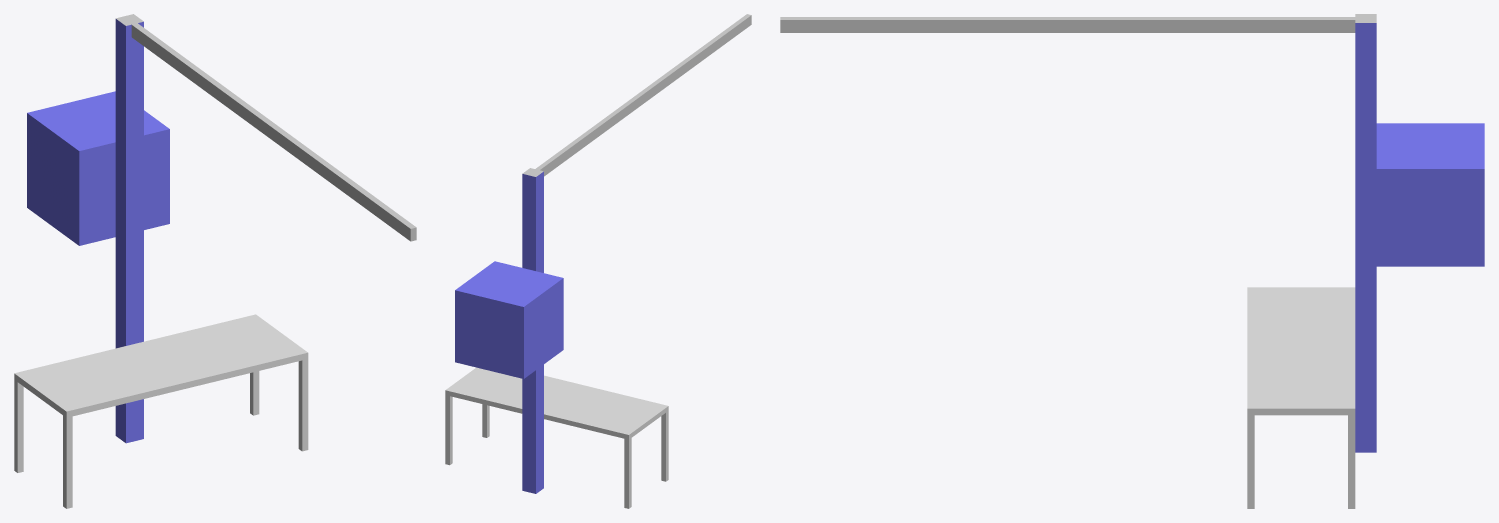
File: meca.etabli.2.glb
3 renders of one model, left to right at view 1: azimuth 30°, elevation 25°; view 2: azimuth 150°, elevation 25°; view 3: azimuth 270°, elevation 25°, orthographic. The views are drawn at different scales.
Visible parts, largest first — view 1: imagetostl_mesh5, imagetostl_mesh21, imagetostl_mesh30, imagetostl_mesh25, imagetostl_mesh20, imagetostl_mesh31, imagetostl_mesh27, imagetostl_mesh3, imagetostl_mesh33, imagetostl_mesh24, imagetostl_mesh7, imagetostl_mesh16; view 2: imagetostl_mesh5, imagetostl_mesh28, imagetostl_mesh30, imagetostl_mesh31, imagetostl_mesh20, imagetostl_mesh25, imagetostl_mesh22, imagetostl_mesh1, imagetostl_mesh29, imagetostl_mesh24, imagetostl_mesh7; view 3: imagetostl_mesh5, imagetostl_mesh34, imagetostl_mesh23, imagetostl_mesh18, imagetostl_mesh31, imagetostl_mesh4, imagetostl_mesh24.
Boxes of the visible parts, box(x1,y1,x2,y2) form: imagetostl_mesh5: box(14, 314, 307, 411); imagetostl_mesh21: box(126, 21, 143, 443); imagetostl_mesh30: box(27, 113, 79, 245); imagetostl_mesh25: box(115, 19, 125, 442); imagetostl_mesh20: box(131, 25, 410, 241); imagetostl_mesh31: box(27, 91, 169, 150); imagetostl_mesh27: box(79, 142, 115, 245); imagetostl_mesh3: box(66, 352, 308, 508); imagetostl_mesh33: box(144, 129, 169, 229); imagetostl_mesh24: box(116, 14, 416, 228); imagetostl_mesh7: box(14, 373, 66, 508); imagetostl_mesh16: box(17, 382, 23, 472); imagetostl_mesh5: box(445, 367, 667, 434); imagetostl_mesh28: box(455, 290, 523, 378); imagetostl_mesh30: box(524, 278, 563, 378); imagetostl_mesh31: box(455, 261, 562, 306); imagetostl_mesh20: box(540, 15, 751, 176); imagetostl_mesh25: box(536, 171, 543, 493); imagetostl_mesh22: box(522, 370, 535, 493); imagetostl_mesh1: box(445, 390, 628, 508); imagetostl_mesh29: box(522, 174, 535, 270); imagetostl_mesh24: box(522, 14, 751, 176); imagetostl_mesh7: box(629, 406, 668, 508); imagetostl_mesh5: box(1247, 287, 1355, 408); imagetostl_mesh34: box(1376, 169, 1484, 266); imagetostl_mesh23: box(1355, 23, 1376, 452); imagetostl_mesh18: box(780, 20, 1355, 32); imagetostl_mesh31: box(1376, 123, 1484, 168); imagetostl_mesh4: box(1247, 408, 1355, 508); imagetostl_mesh24: box(780, 14, 1376, 22).
Size of the model in its own units: 1.57 by 2.6 by 3.86.
